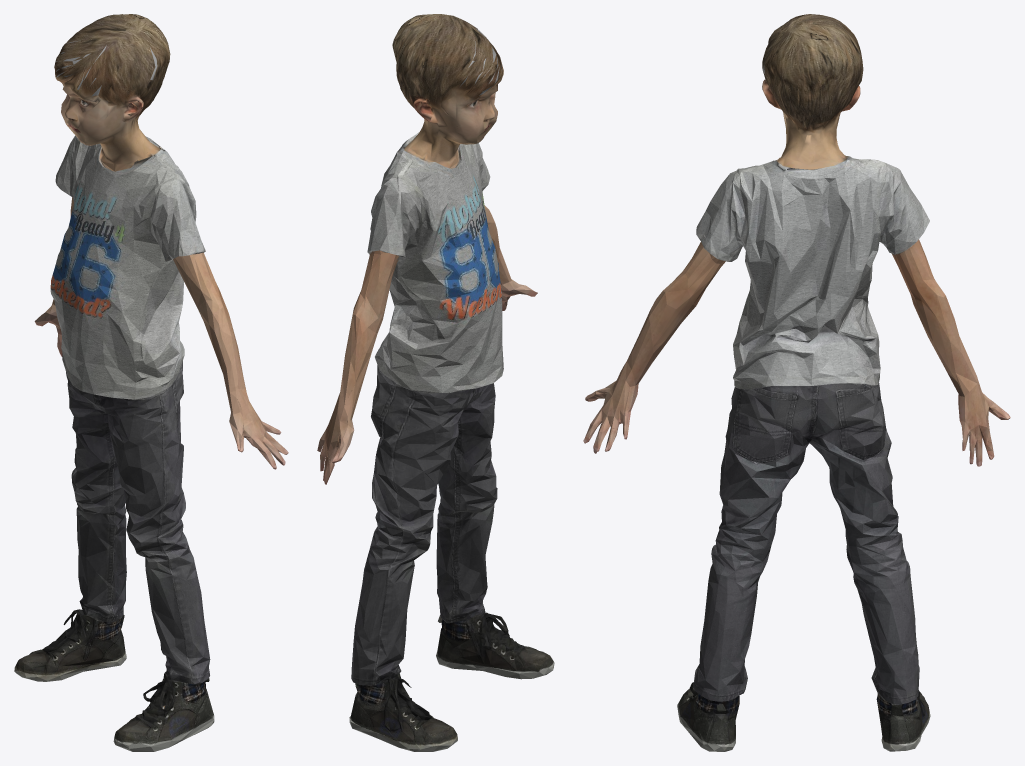
The model's file is swelling_kid.fbx.
3 views of the same model, side by side, from view 1: azimuth 30°, elevation 25°; view 2: azimuth 150°, elevation 25°; view 3: azimuth 270°, elevation 25° (orthographic). The views are drawn at different scales.
Parts seen in each view (by area): view 1: Kid; view 2: Kid; view 3: Kid.
Part boxes in pixels (box(x1,y1,x2,y2)): Kid: box(14, 14, 288, 751); Kid: box(317, 14, 554, 751); Kid: box(583, 14, 1010, 751).
Bounding box in the file's own units: 50.52 × 250 × 136.
